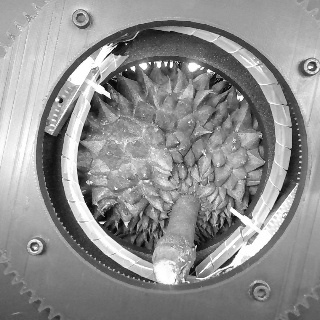base: (169, 191, 203, 216)
end: (153, 259, 179, 285)
